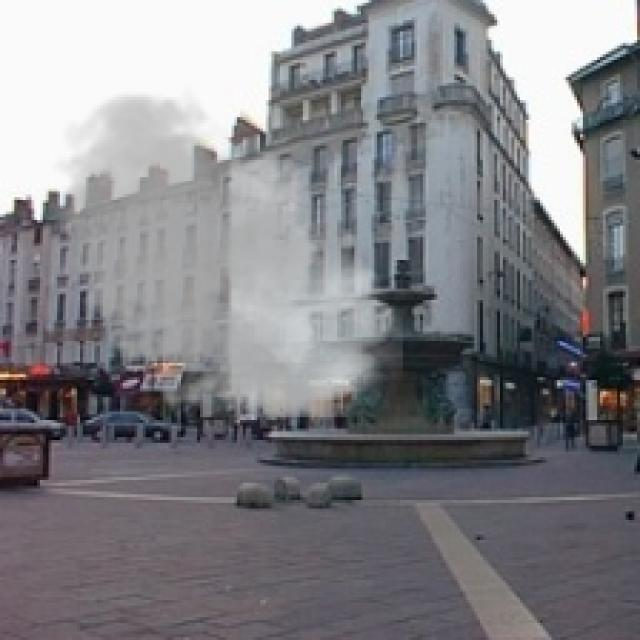smoke: (37, 86, 403, 431)
